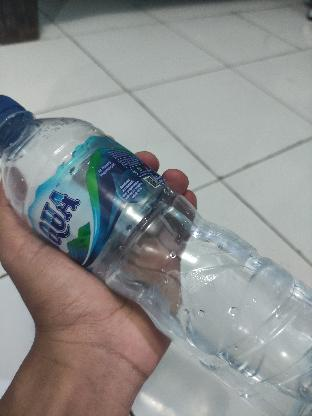Plastic Bottle: (0, 76, 312, 416)
